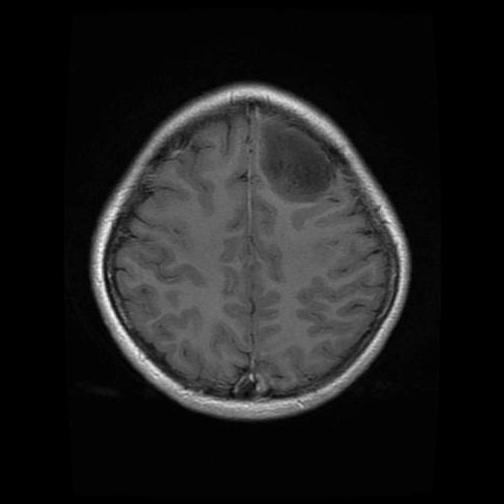Tumour-Glioma: (258, 107, 337, 220)
